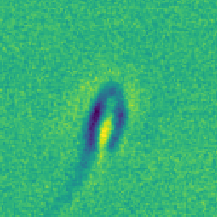normal: (33, 153, 121, 217)
